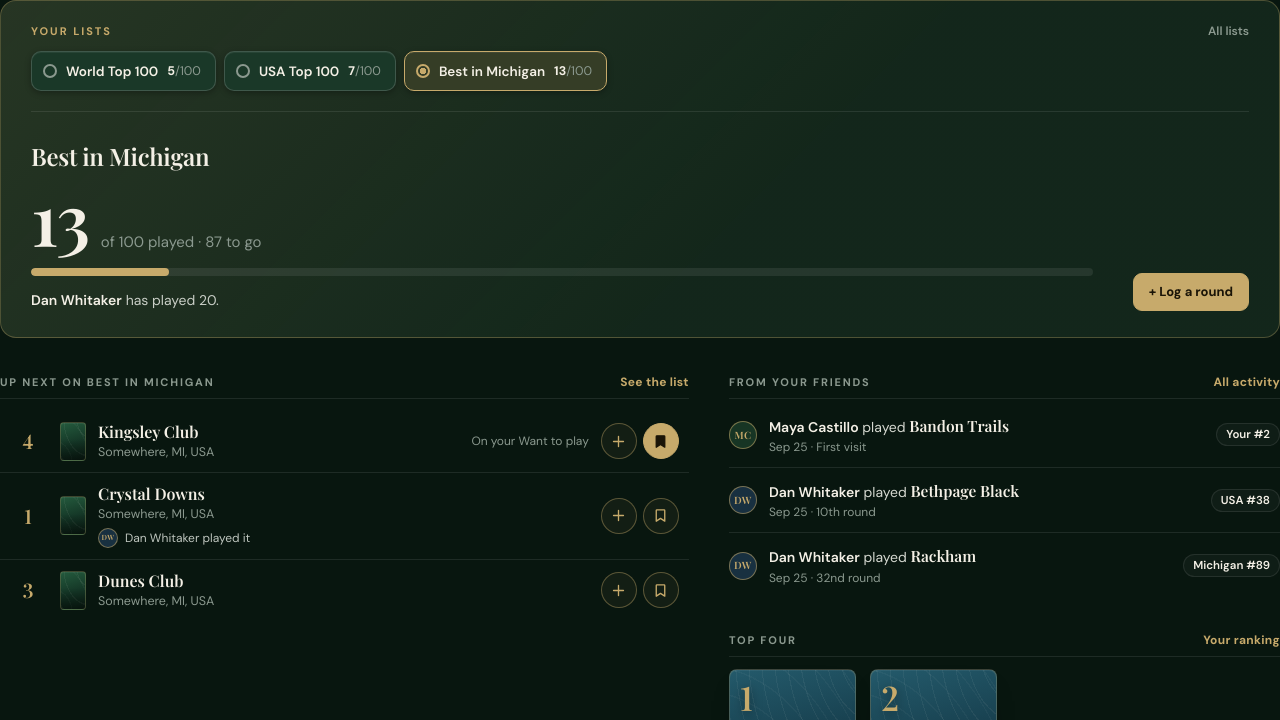
Test: progress home › offers the next unplayed courses on the tracked list, Want to play first, ready to log
Expected: the list item "4 Kingsley Club Somewhere, MI, USA On your Want to play" is shown, [0,411,689,472]
Click the button named "Log a round at Crystal Downs". click: (619, 516)
box: [601,498,637,534]
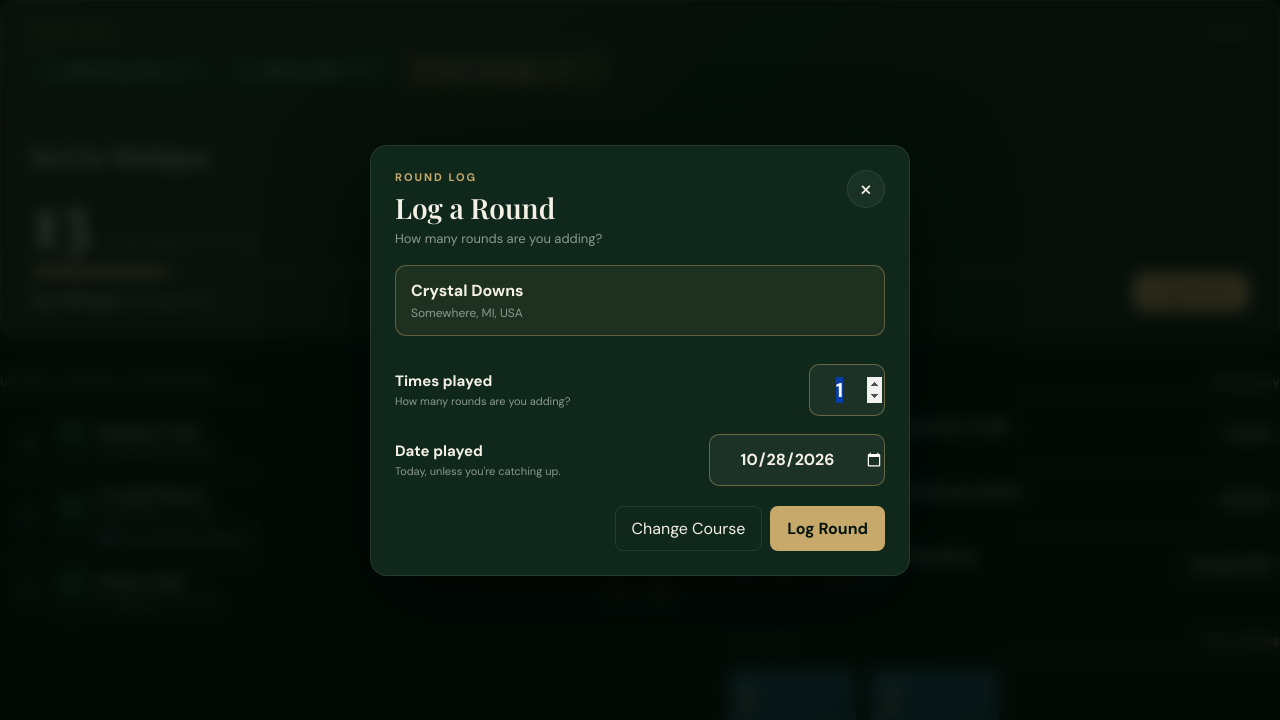
Now the dialog is shown, box [370,144,910,576]
